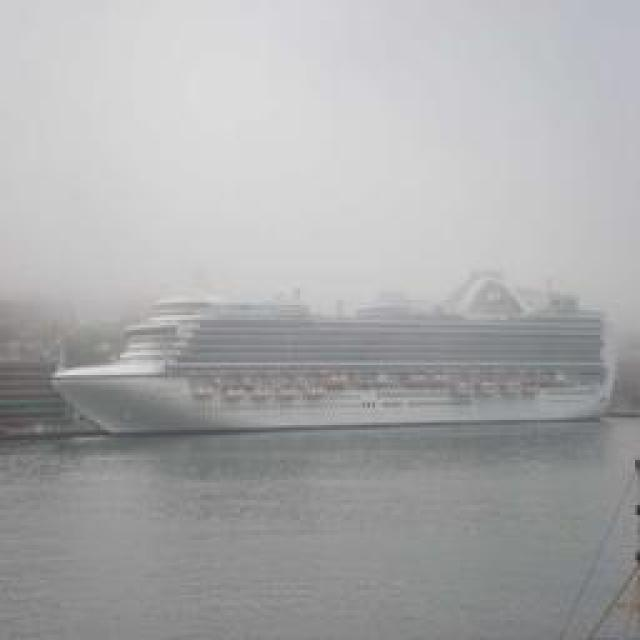Ship: (52, 300, 622, 450)
